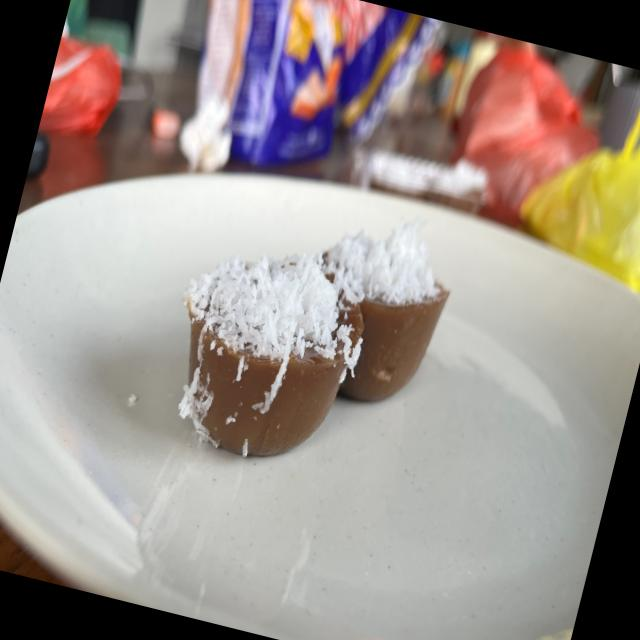Kuih lompang: (178, 254, 363, 456), (323, 220, 448, 401)
